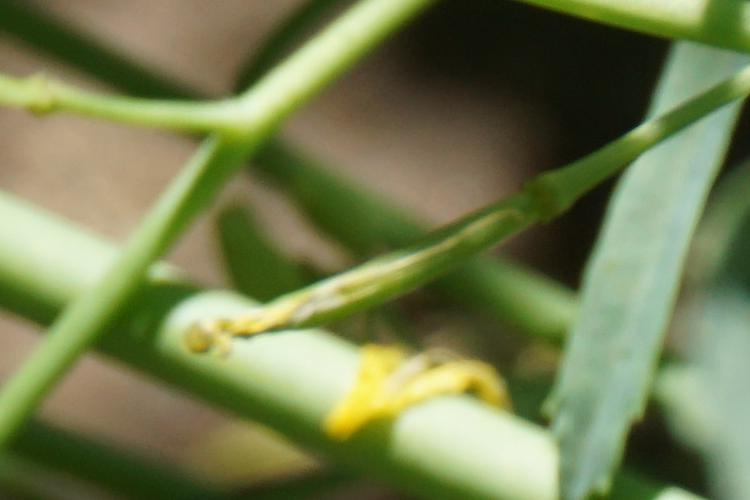pod: (178, 187, 542, 328)
